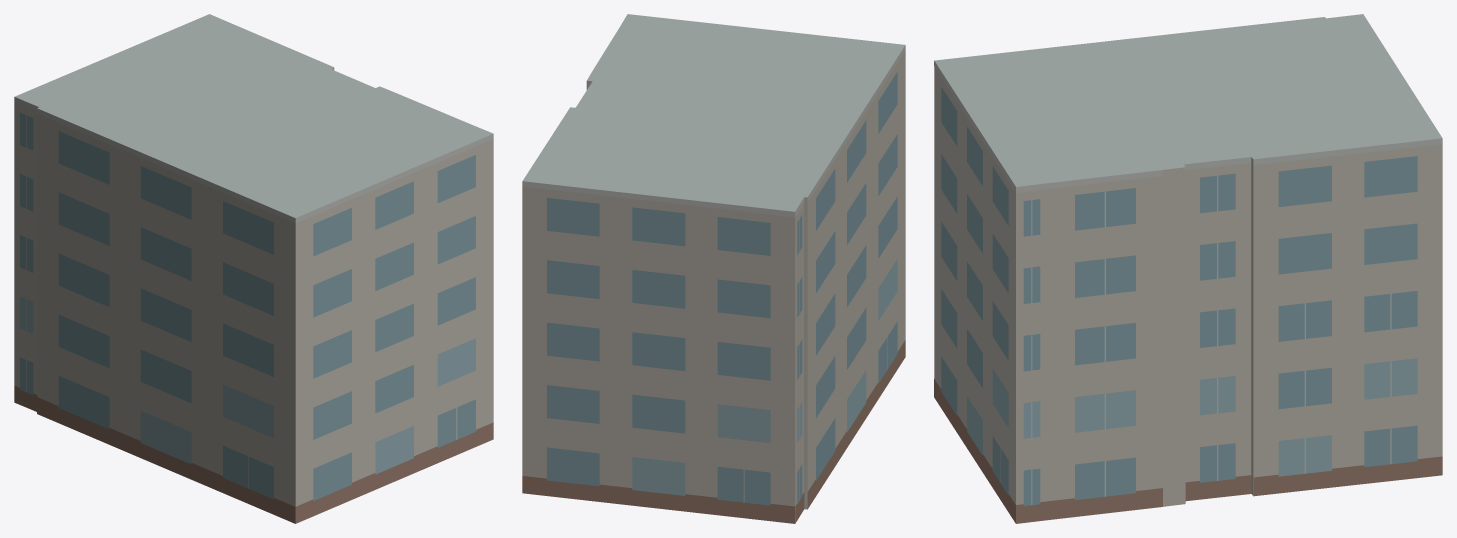
The model's file is survey-upis-32710424.glb.
3 renders of one model, left to right at view 1: azimuth 30°, elevation 25°; view 2: azimuth 150°, elevation 25°; view 3: azimuth 270°, elevation 25°, orthographic. The views are drawn at different scales.
Parts seen in each view (by area): view 1: survey-upis-32710424.tmp; view 2: survey-upis-32710424.tmp; view 3: survey-upis-32710424.tmp.
Boxes of the visible parts, left/top/right/bottom form: survey-upis-32710424.tmp: left=14, top=14, right=493, bottom=523; survey-upis-32710424.tmp: left=522, top=14, right=905, bottom=523; survey-upis-32710424.tmp: left=934, top=14, right=1442, bottom=523.
Size of the model in its own units: 15.54 by 14.1 by 19.3.
